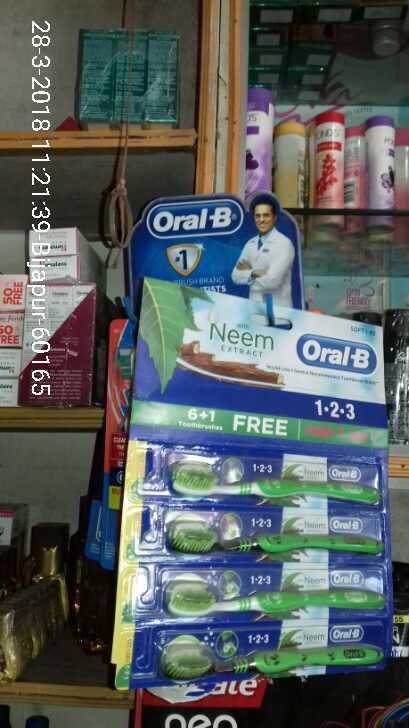oralb: (134, 438, 388, 513), (118, 622, 394, 684), (132, 507, 386, 566), (128, 564, 388, 620)
